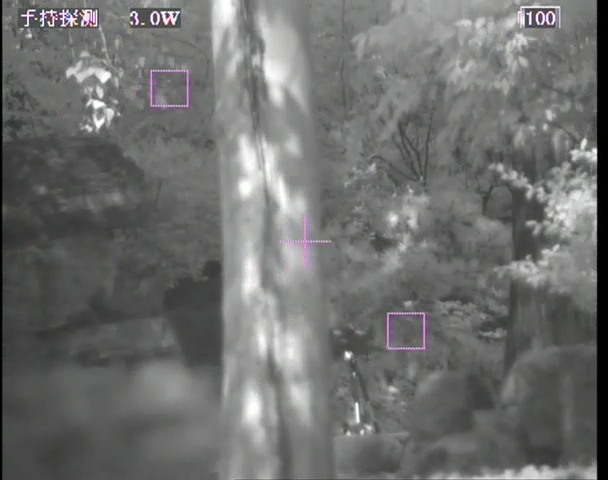my: (343, 349, 354, 364)
